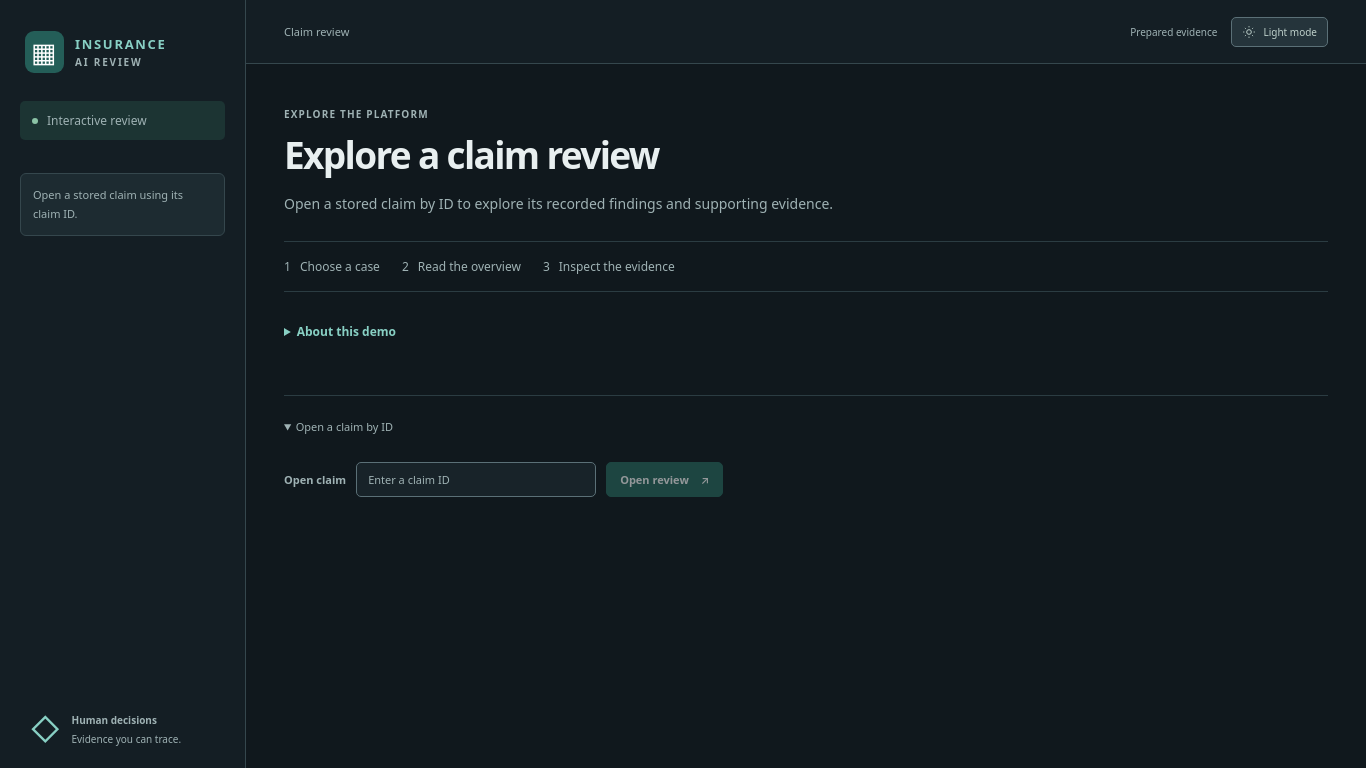
Test case: Review API integration › shows a useful missing-claim state and allows retry
Expected: the heading "Explore a claim review" is shown, [284,128,659,180]
Expected: the text "Open a stored claim using its claim ID." is shown, [20,173,225,236]
Step 1. Type "UNKNOWN" into the field labelled "Open claim" → (476, 480), box [356,462,596,497]
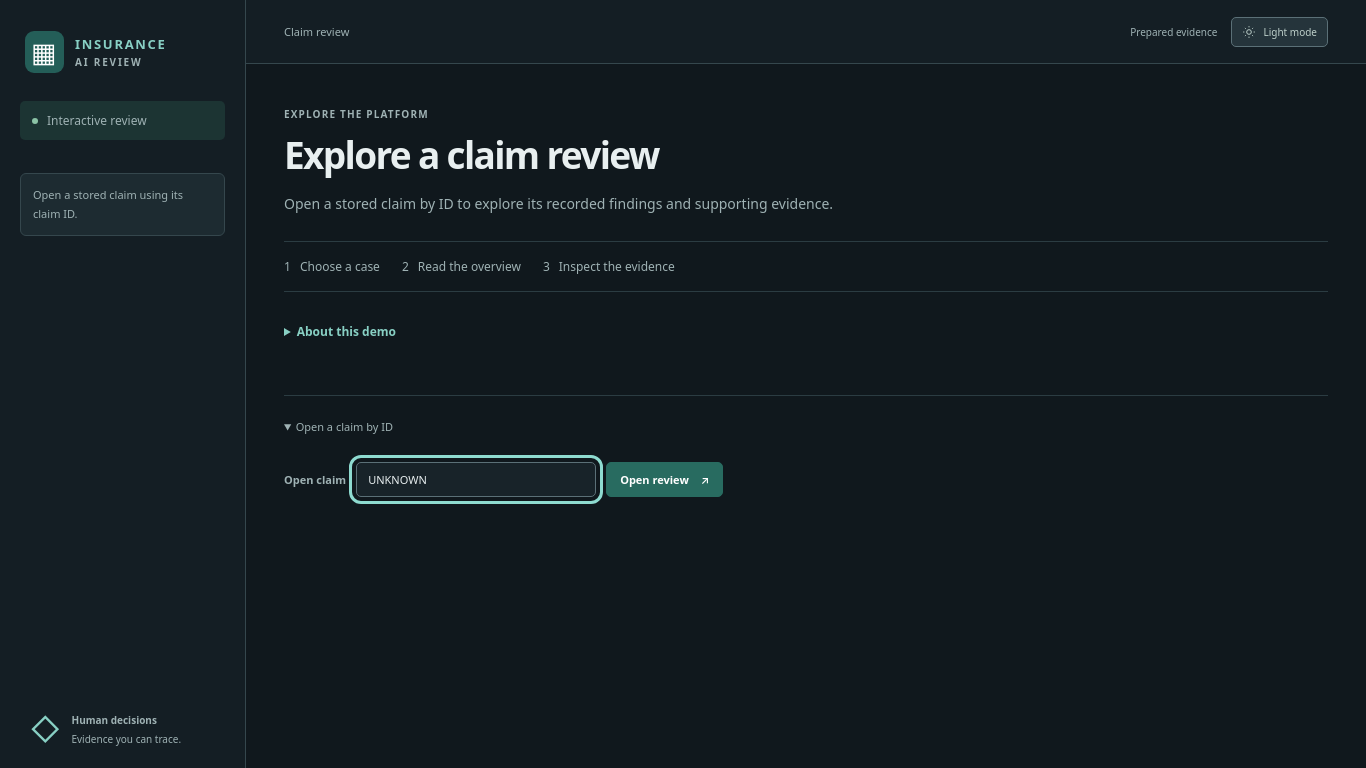
Step 2. Click the button "Open review ↗" → click(665, 480), box [606,462,723,497]
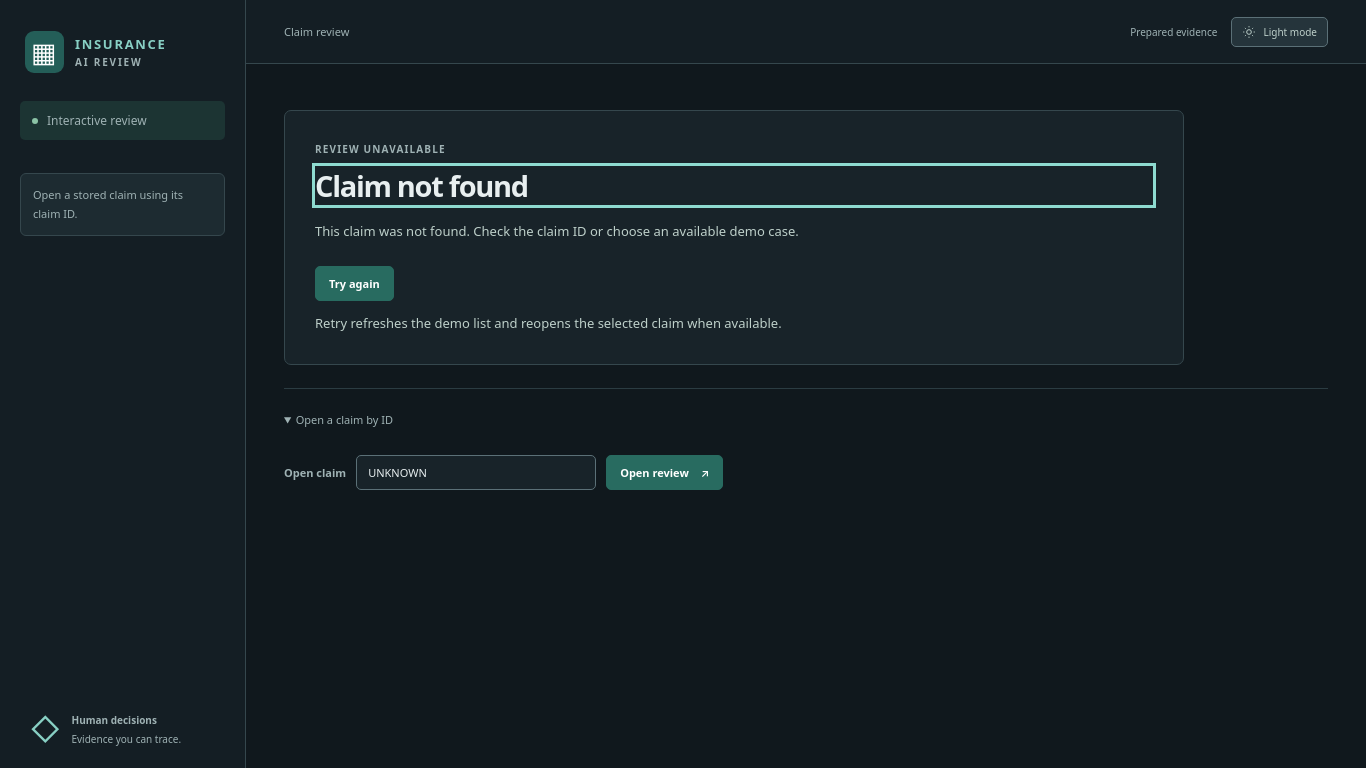
Now the message shows "This claim was not found.", box [315,222,799,240]
Now the button "Try again" is enabled, box [315,266,394,301]
